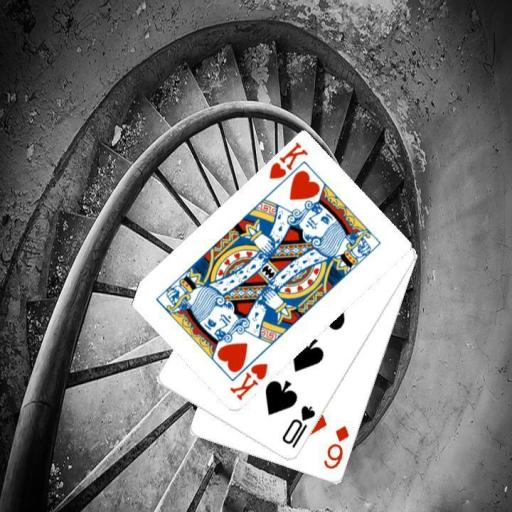card-corner: (265, 140, 310, 182), (226, 360, 270, 402), (279, 403, 317, 450), (320, 422, 351, 472)
